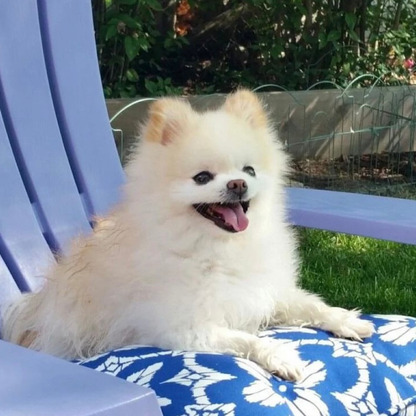Pomeranian: (27, 81, 388, 375)
